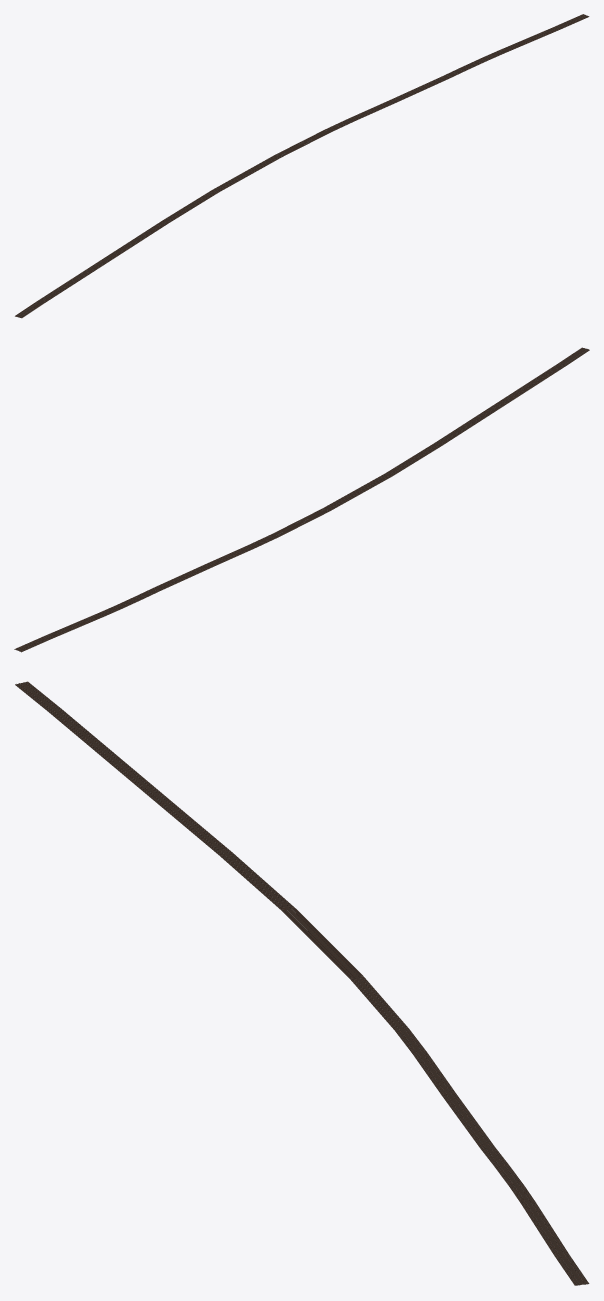
File: kobe_0036.glb
3 views of the same model, one above another, from view 1: azimuth 30°, elevation 25°; view 2: azimuth 210°, elevation 25°; view 3: azimuth 270°, elevation 25° (orthographic). The views are drawn at different scales.
Visible parts, largest first — view 1: ballast_top, oxidised_rail_profiles; view 2: ballast_top, oxidised_rail_profiles, ballast_left; view 3: ballast_top, oxidised_rail_profiles.
Part boxes in pixels (<box>): ballast_top: <box>15,14,589,318</box>; oxidised_rail_profiles: <box>16,14,588,317</box>; ballast_top: <box>14,347,588,651</box>; oxidised_rail_profiles: <box>15,348,588,650</box>; ballast_left: <box>21,350,589,652</box>; ballast_top: <box>15,681,588,1285</box>; oxidised_rail_profiles: <box>17,682,586,1284</box>.
Size of the model in its own units: 703 by 0.819 by 283.
4 materials, 3 textured.
